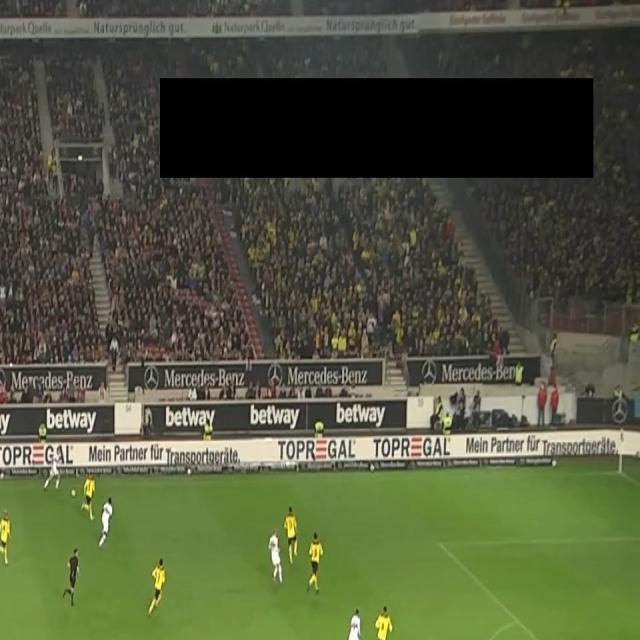ball: (70, 487, 77, 499)
